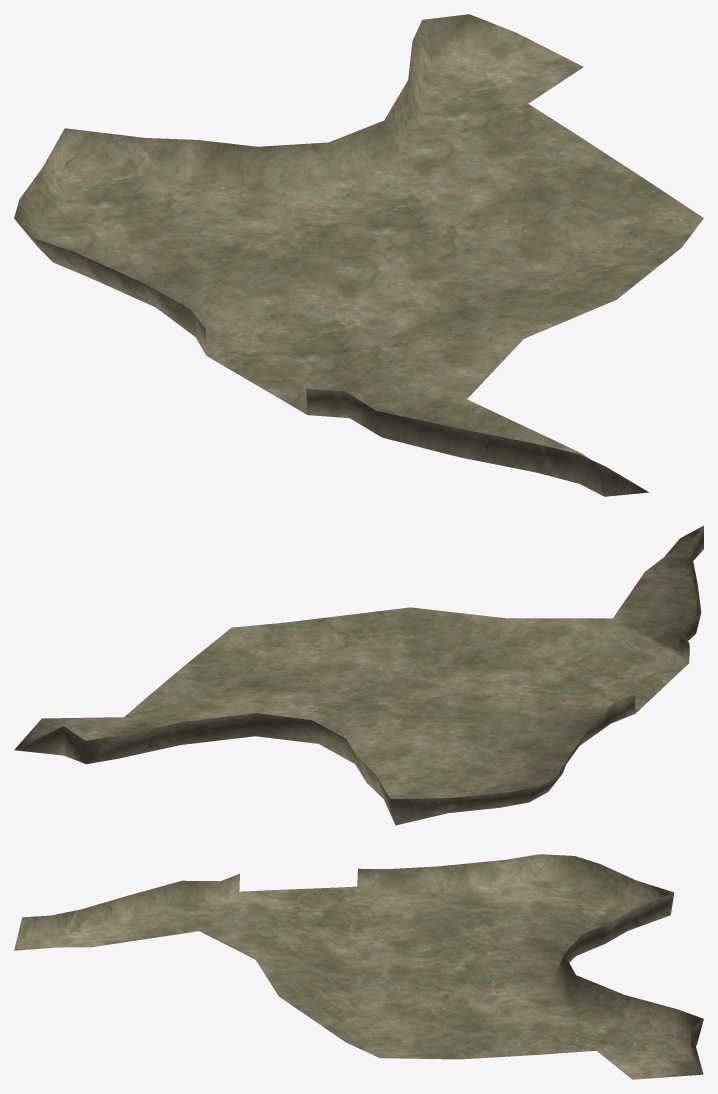
The model's file is EKH_CAVERNS_PS_CA_OBJECT29.fbx.
3 views of the same model, one above another, from view 1: azimuth 30°, elevation 25°; view 2: azimuth 150°, elevation 25°; view 3: azimuth 270°, elevation 25° (orthographic). The views are drawn at different scales.
Visible parts, largest first — view 1: EKH_CAVERNS_PS_CA_OBJECT29; view 2: EKH_CAVERNS_PS_CA_OBJECT29; view 3: EKH_CAVERNS_PS_CA_OBJECT29.
Boxes of the visible parts, bbox=[...] form: EKH_CAVERNS_PS_CA_OBJECT29: bbox=[14, 14, 703, 496]; EKH_CAVERNS_PS_CA_OBJECT29: bbox=[14, 525, 703, 825]; EKH_CAVERNS_PS_CA_OBJECT29: bbox=[14, 854, 703, 1079].
Bounding box in the file's own units: 109642 × 7519 × 155236.
Materials: 1 (1 with a texture image).
